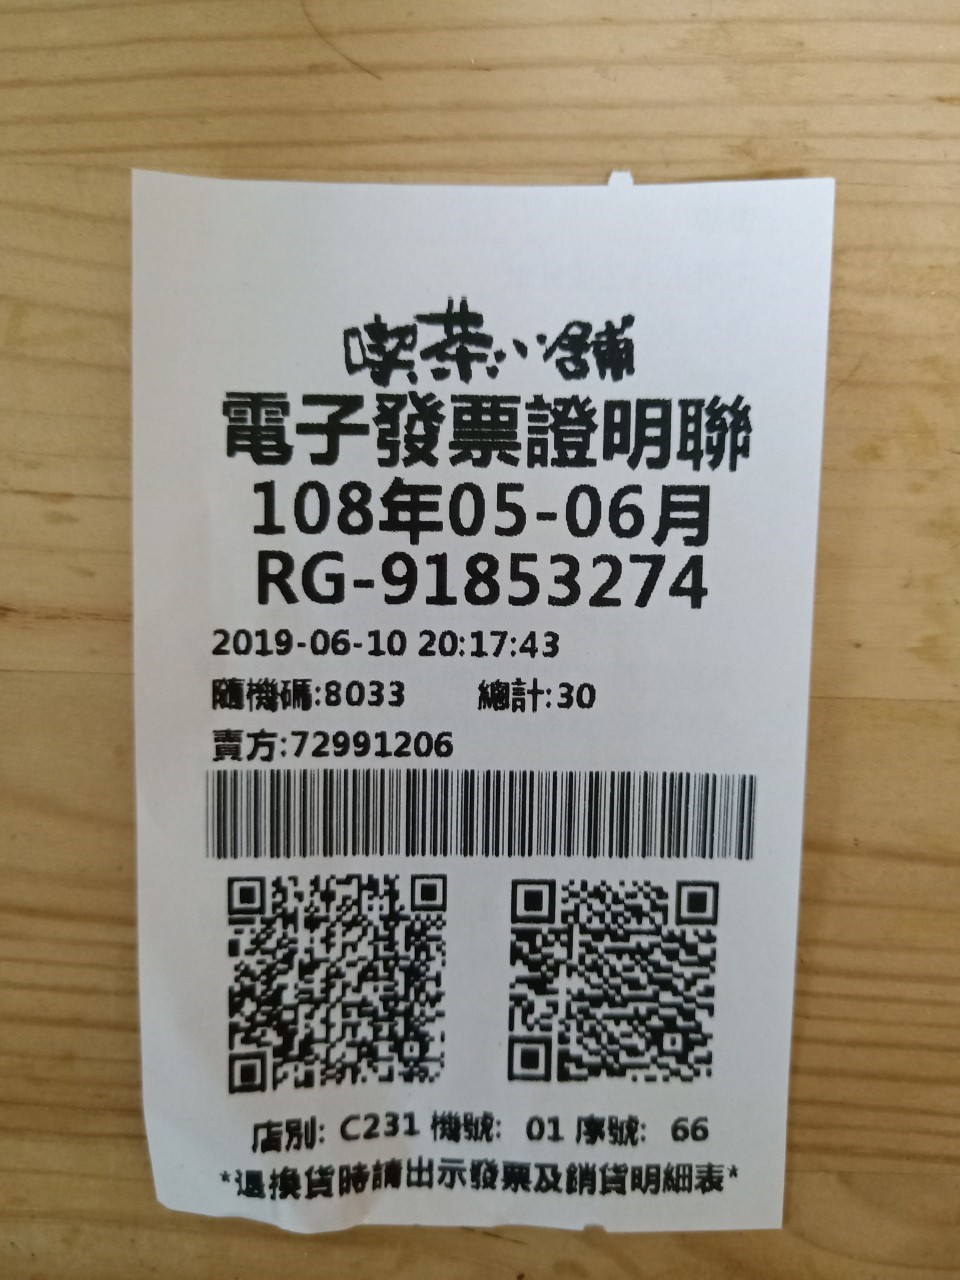Date_New: (250, 477, 718, 547)
Number_New: (381, 547, 713, 608)
